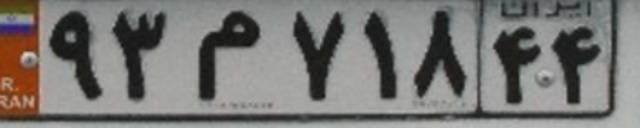1: (364, 12, 398, 99)
3: (108, 9, 168, 101)
4: (551, 24, 601, 104), (492, 25, 541, 104)
7: (290, 9, 344, 100)
8: (412, 10, 466, 97)
9: (48, 10, 104, 99)
mim: (194, 10, 259, 100)
